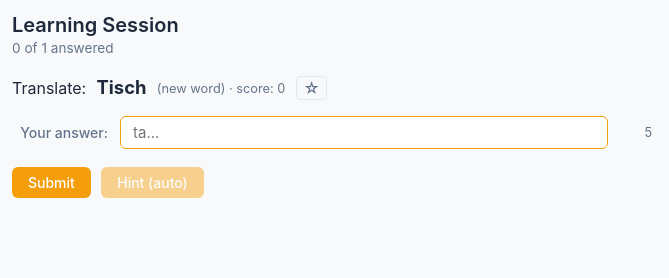
Test: TrainingScreen › shows "Correct!" status after a correct answer
The image size is (669, 278).
Step 1. Type "table" into the field named "Your answer:" → (364,132), box [120,116,608,149]
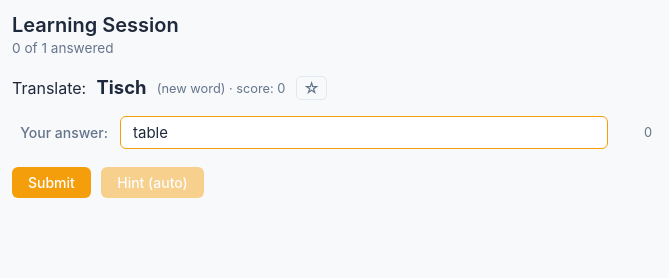
Step 2. Click the button "Submit" → (51,183), box [12,167,91,198]
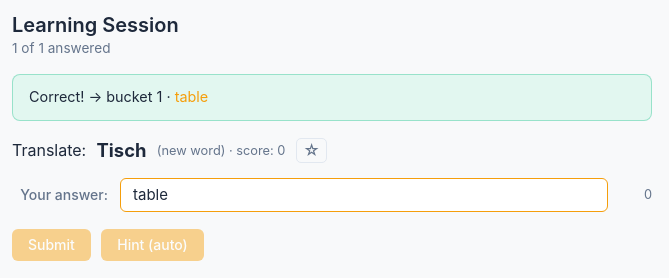
Result: the message shows "Correct! → bucket 1" at [12,74,652,121]
